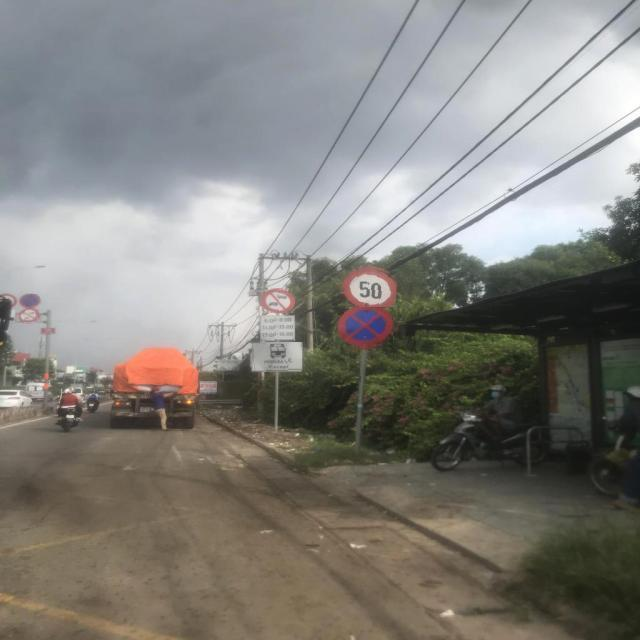107-cam-oto-khach-va-oto-tai: (261, 288, 295, 312)
127-toc-do-toi-da-50: (341, 266, 397, 306)
130-cam-dung-va-do-xe: (338, 304, 394, 348)
